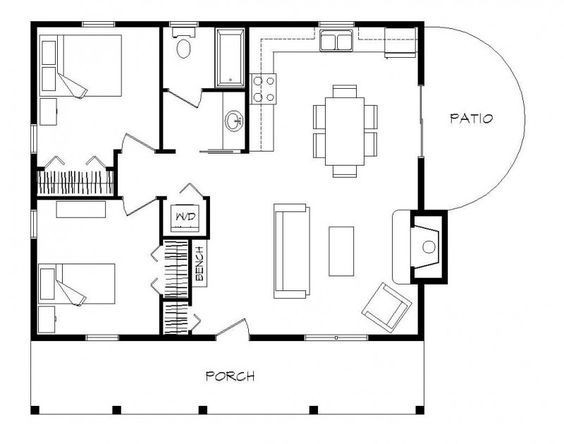room: (157, 151, 431, 341), (243, 9, 438, 156), (27, 17, 163, 201), (32, 196, 166, 341), (155, 15, 252, 153)
wall: (196, 17, 323, 32), (113, 330, 216, 345), (159, 25, 171, 151), (29, 20, 43, 127), (29, 239, 41, 343), (242, 35, 252, 153), (352, 17, 427, 31), (185, 233, 197, 308), (416, 28, 431, 87), (25, 151, 39, 214), (439, 211, 451, 284), (249, 331, 305, 345), (38, 17, 86, 33), (413, 157, 427, 211), (408, 209, 451, 226), (414, 282, 427, 338), (39, 193, 125, 201), (112, 16, 173, 27), (37, 333, 90, 345), (156, 293, 169, 336), (406, 274, 443, 288), (204, 192, 214, 240), (113, 149, 121, 197), (159, 195, 166, 248), (202, 88, 247, 96), (162, 295, 189, 306)
window: (414, 90, 432, 154), (321, 15, 357, 33), (24, 123, 44, 155), (84, 329, 119, 346), (80, 16, 116, 31), (306, 334, 368, 342), (163, 17, 198, 31), (29, 210, 43, 239)
